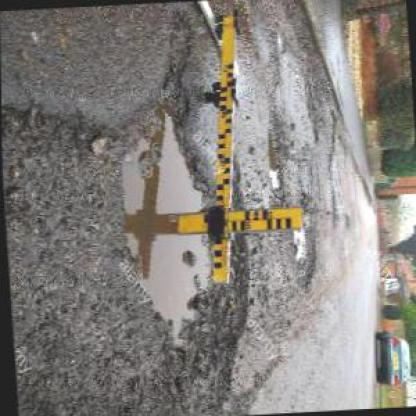pothole: (68, 86, 261, 415), (286, 193, 324, 288), (264, 119, 284, 194)
